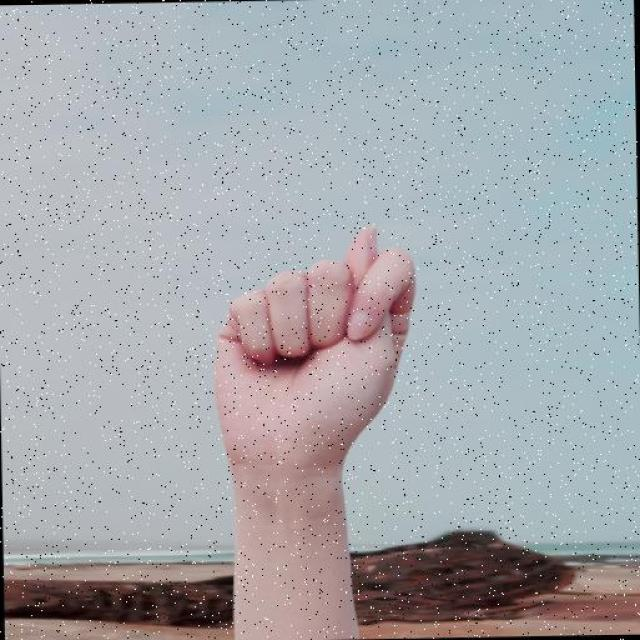T: (209, 222, 424, 477)
